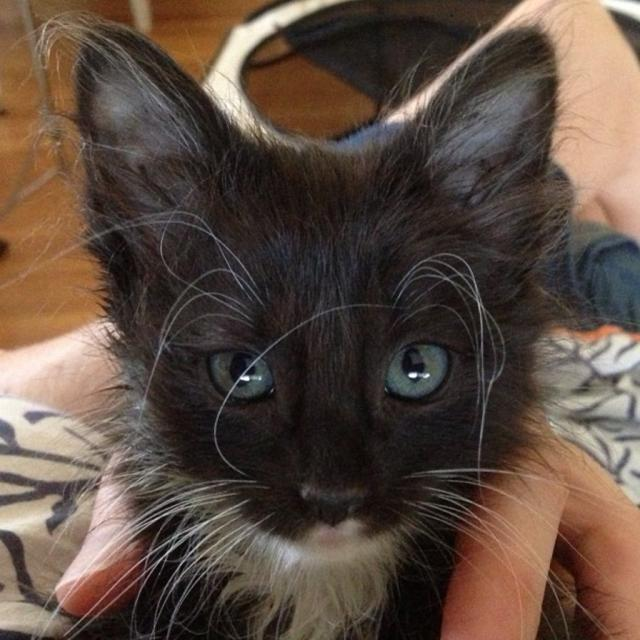Cat: (0, 0, 638, 628)
